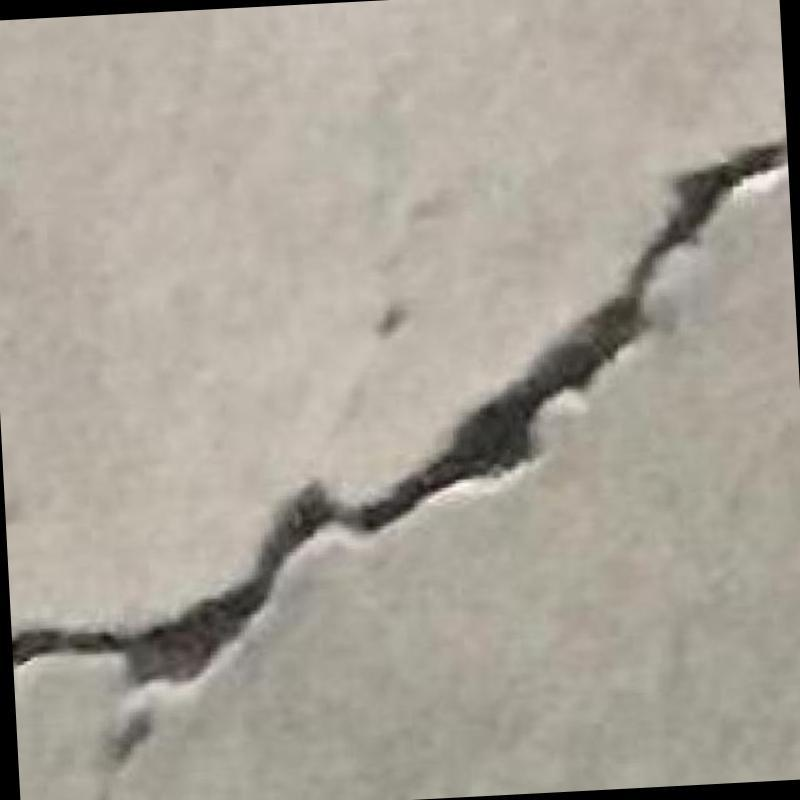crack: (12, 139, 787, 683)
